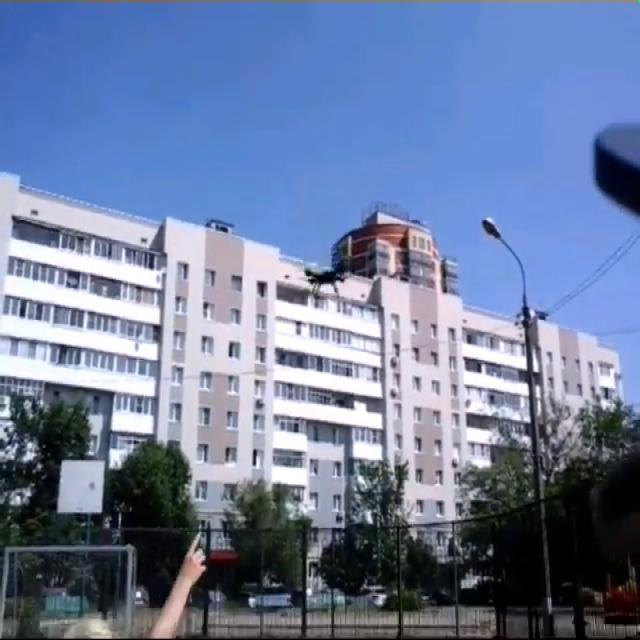Drons: (294, 258, 356, 304)
